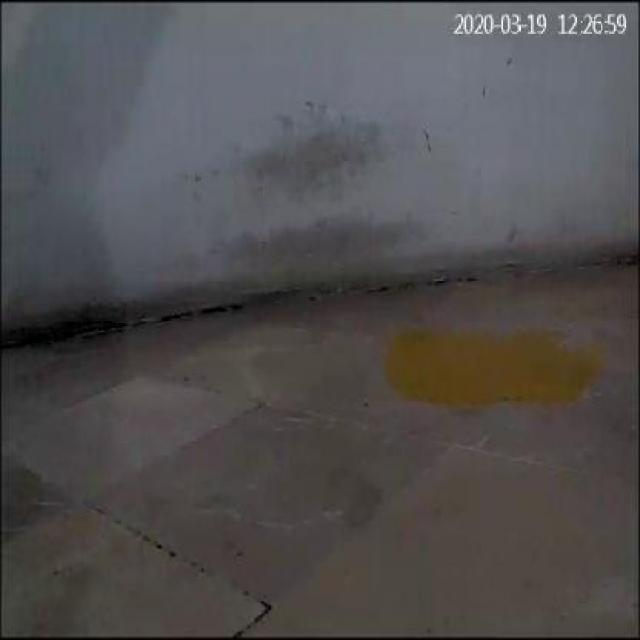spill: (382, 332, 600, 420)
